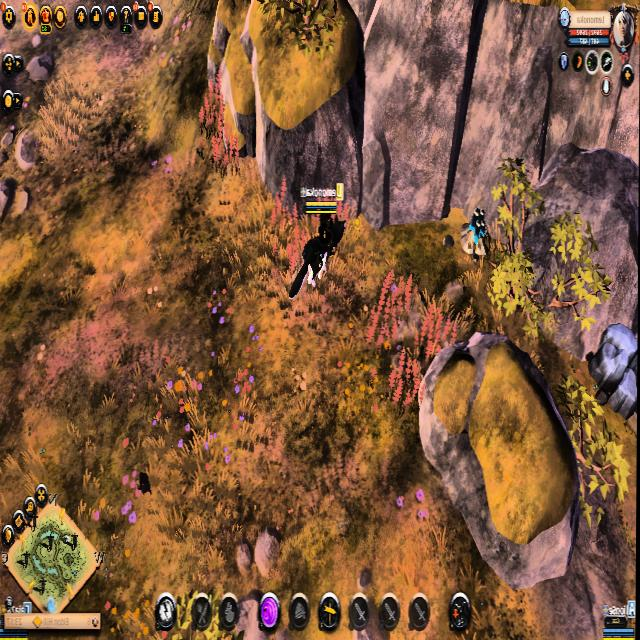ore tier 4: (460, 205, 494, 259)
